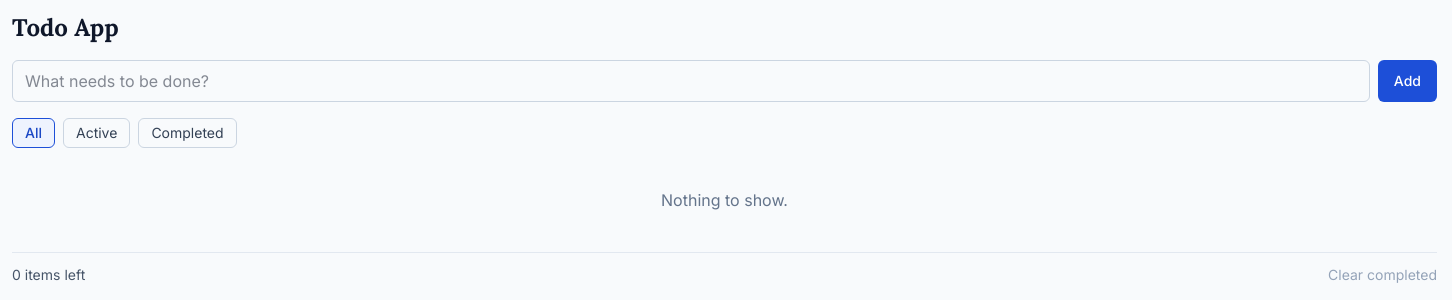
Test: TodoPage › saves an edit with the Save button and discards it with Cancel
Type "Draft" into the field named "New todo" at (691, 81), box [12,60,1370,102]
Then press Enter
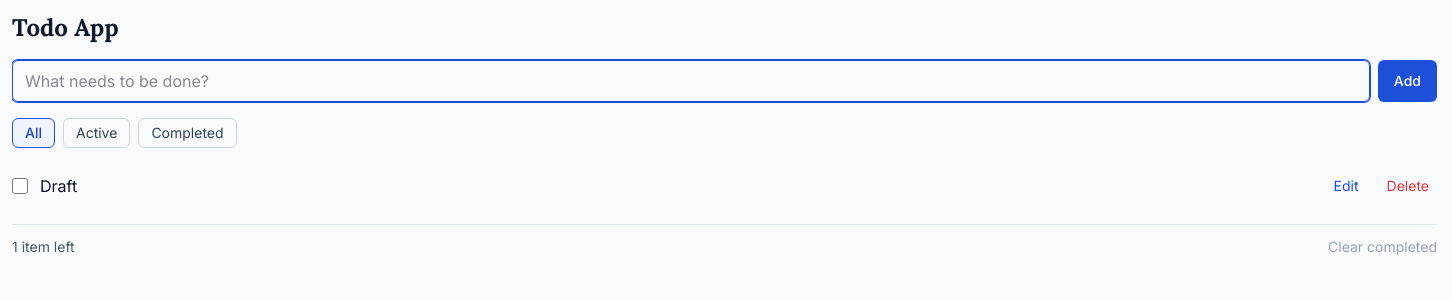
Click the button "Edit" at (1346, 186), box [1326,172,1367,200]
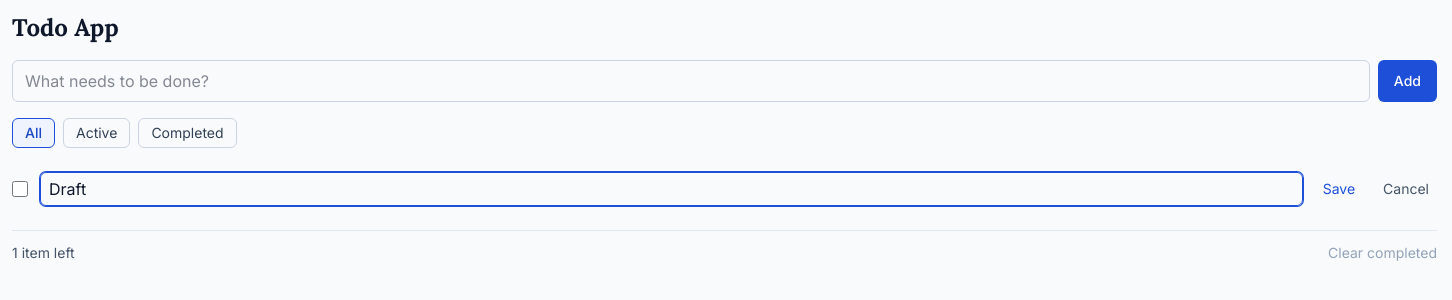
Type " one" into the field named "Edit Draft" at (671, 189), box [40,172,1303,206]
Click the button "Save" at (1339, 189), box [1315,175,1363,203]
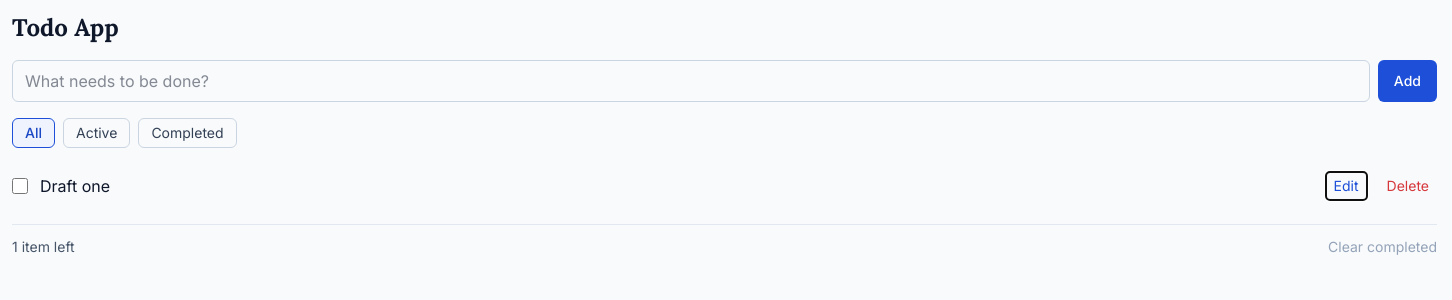
Expected: the text "Draft one" is shown, [40,176,110,196]
Click the button "Edit" at (1346, 186), box [1326,172,1367,200]
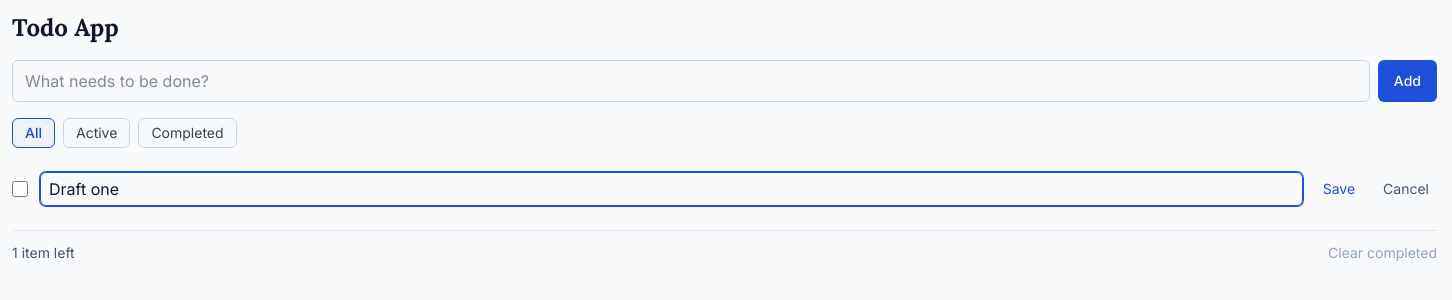
Type " two" into the field named "Edit Draft one" at (671, 189), box [40,172,1303,206]
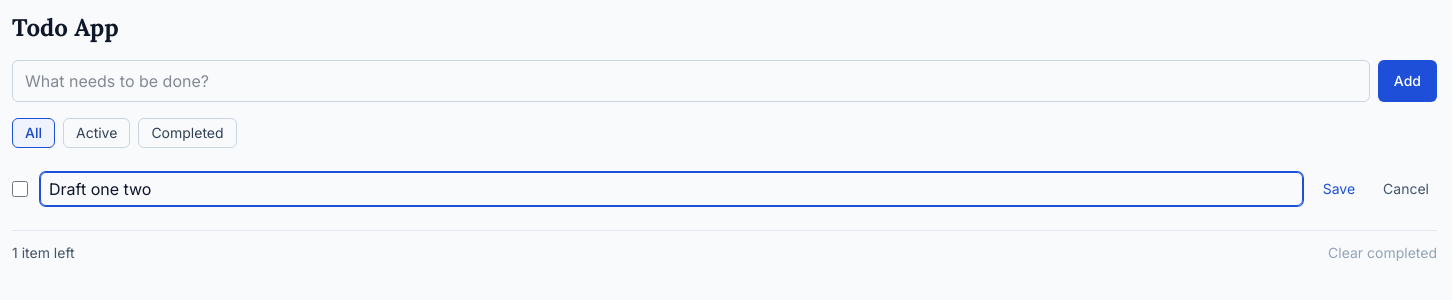
Click the button "Cancel" at (1406, 189), box [1375,175,1437,203]
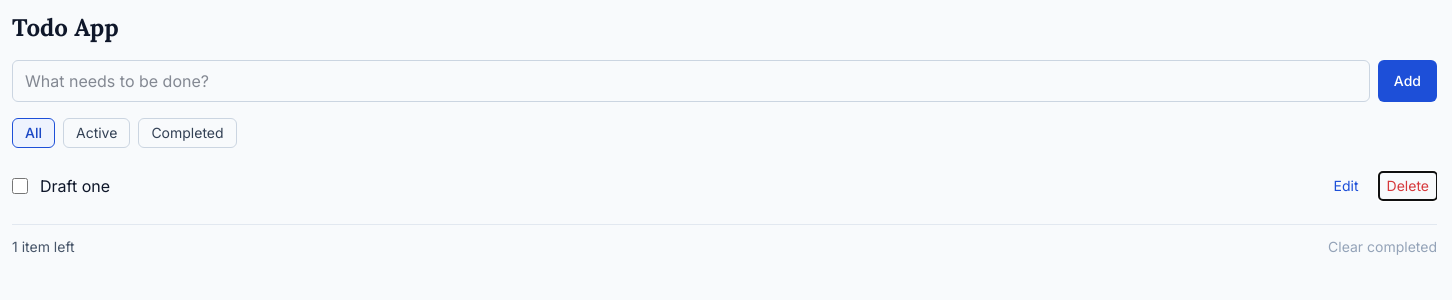
Expected: the text "Draft one" is shown, [40,176,110,196]
